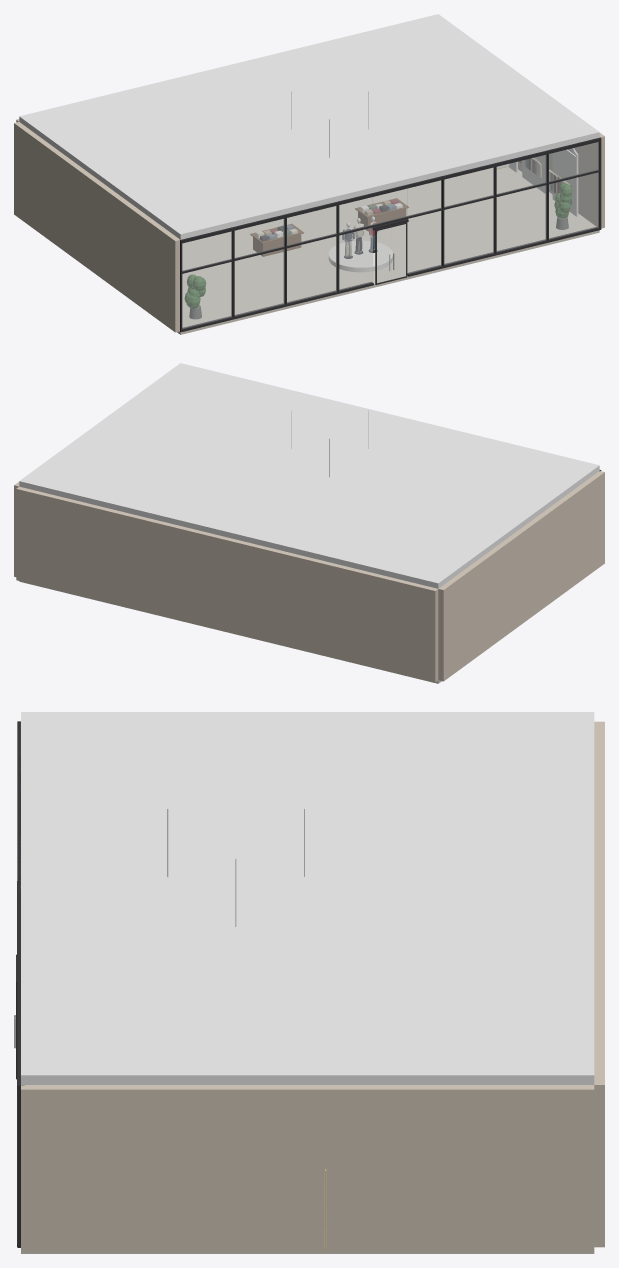
File: arden.glb
The picture shows the model from 3 angles, top to bottom: view 1: azimuth 30°, elevation 25°; view 2: azimuth 150°, elevation 25°; view 3: azimuth 270°, elevation 25°; orthographic projection. The views are drawn at different scales.
Parts seen in each view (by area): view 1: Venue, Door_L, Door_R; view 2: Venue; view 3: Venue.
Part boxes in pixels (box(x1,y1,x2,y2)): Venue: box(14, 14, 604, 334); Door_L: box(375, 226, 391, 284); Door_R: box(391, 222, 407, 280); Venue: box(14, 363, 604, 683); Venue: box(17, 712, 604, 1253).
Size of the model in its own units: 24.7 by 7.6 by 16.5.
